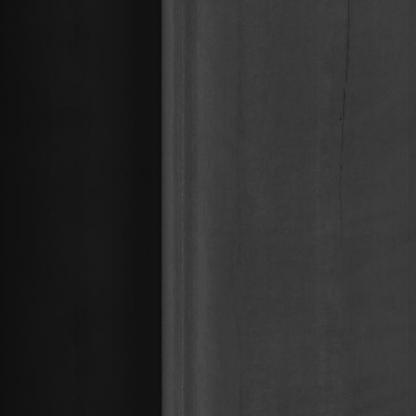inclusion: (335, 2, 355, 272)
